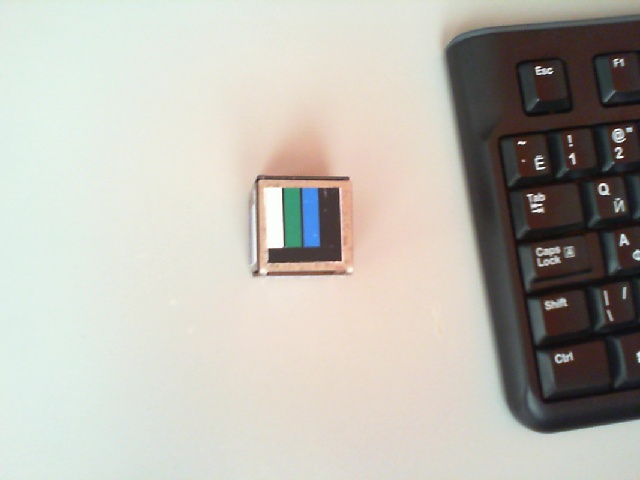square: (265, 187, 341, 261)
